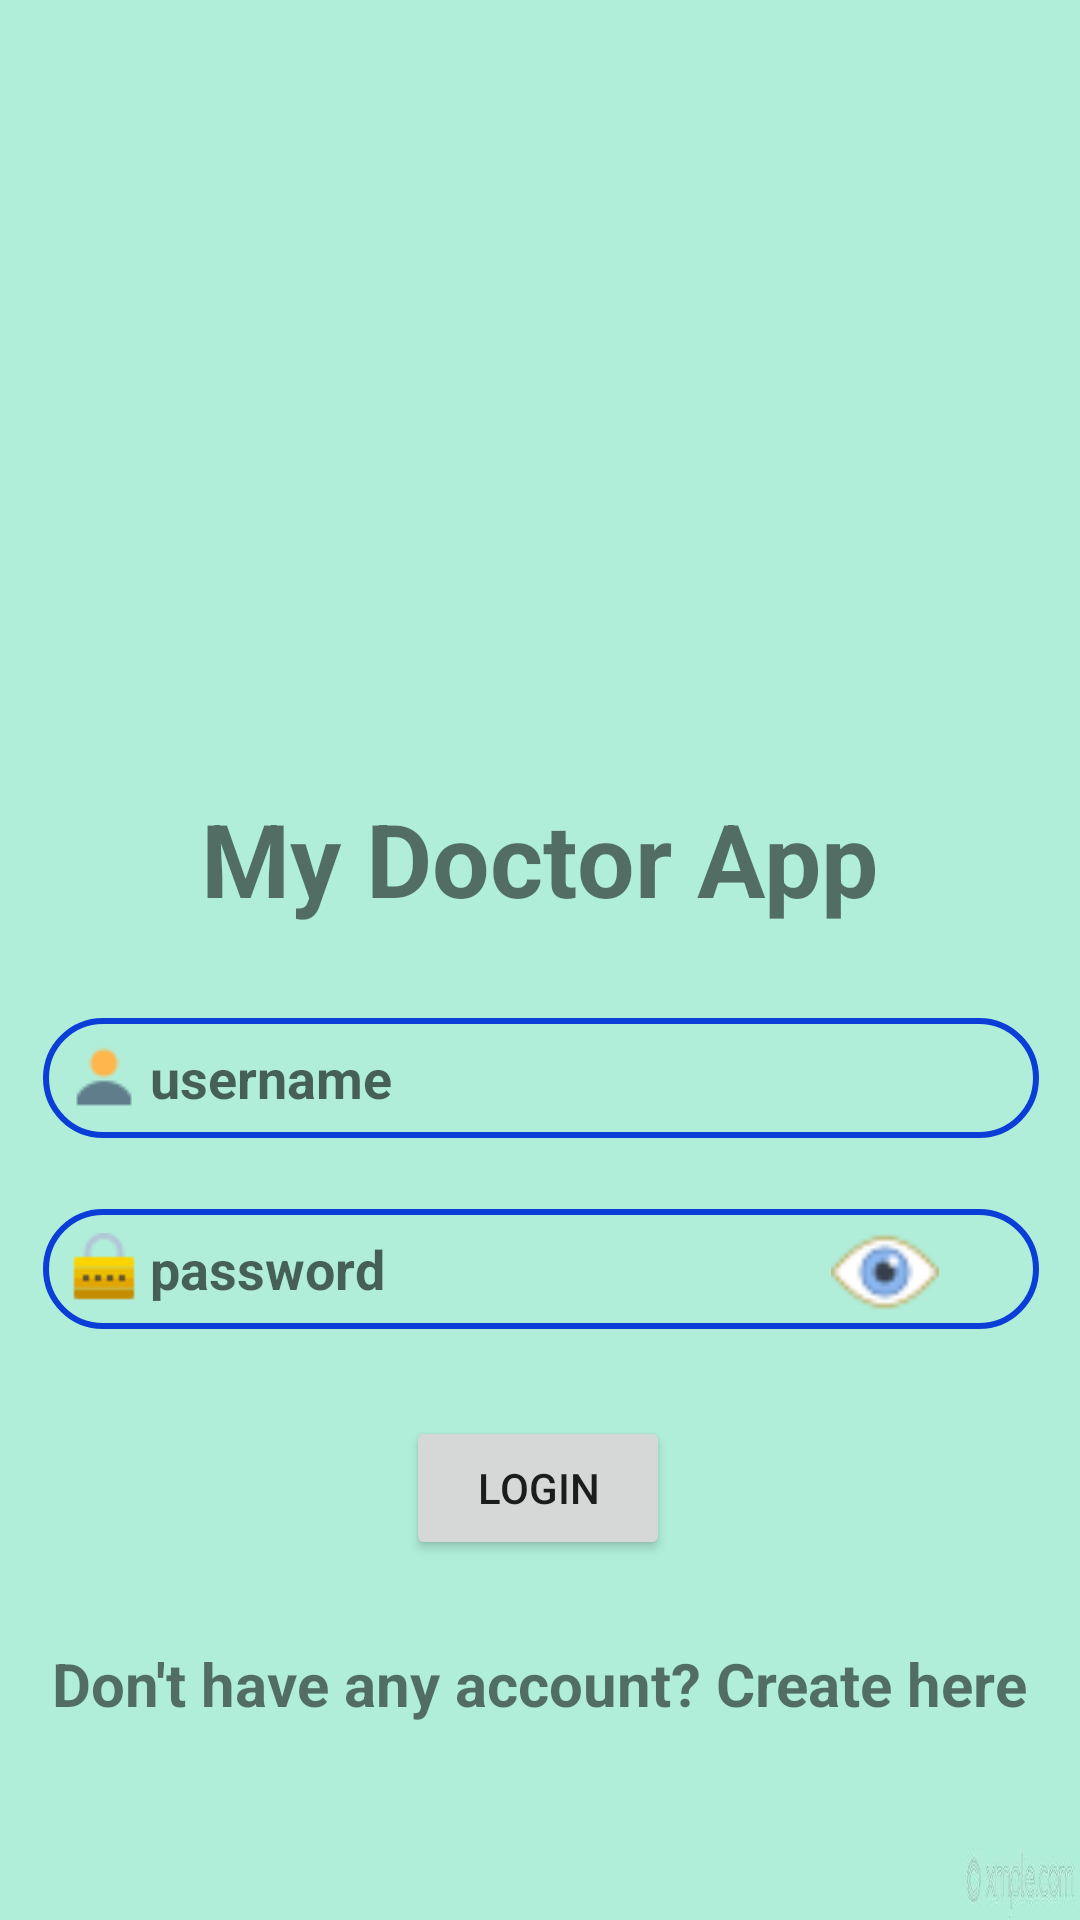

Where to tap for icons on this 1080x1920 app screen, as (x=x, y=y):
show pass: (x=885, y=1272)
